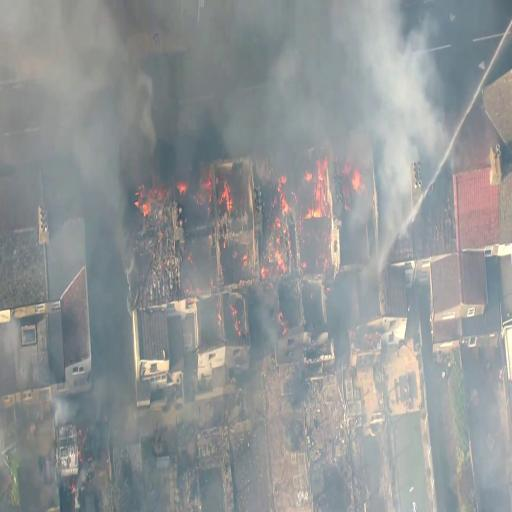fire: (297, 159, 332, 220)
smoke: (6, 0, 117, 122), (350, 20, 431, 142)
